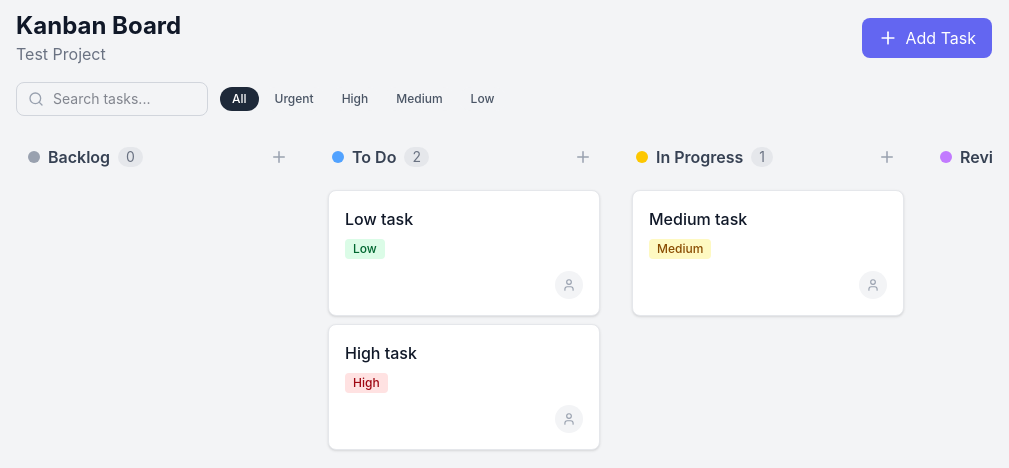
it: KanbanPage › filters tasks by priority
Expected: the heading "Low task" is shown, 345,209 -> 413,229
Click the button "High" at (355, 99), box 330,87 -> 380,111
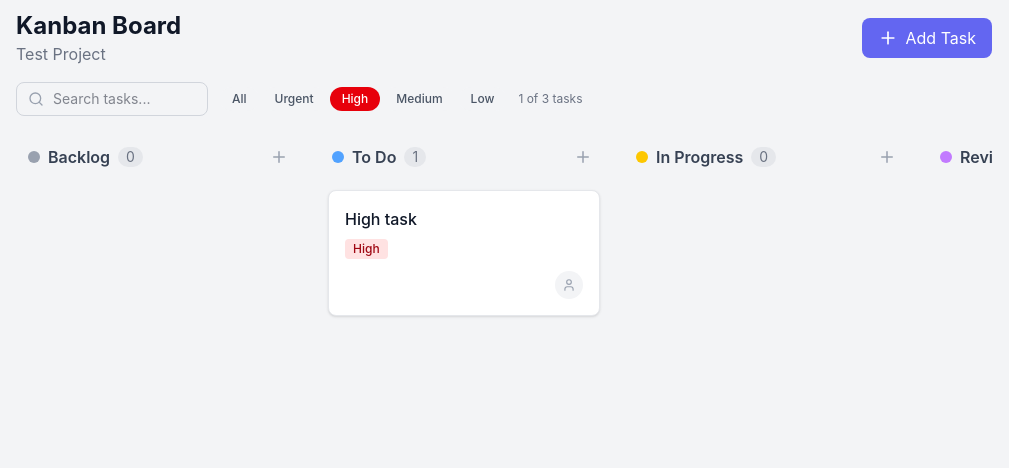
Result: the button "Low task" is gone
Result: the button "Medium task" is gone
Result: the text "1 of 3 tasks" is shown at 518,91 -> 582,107
